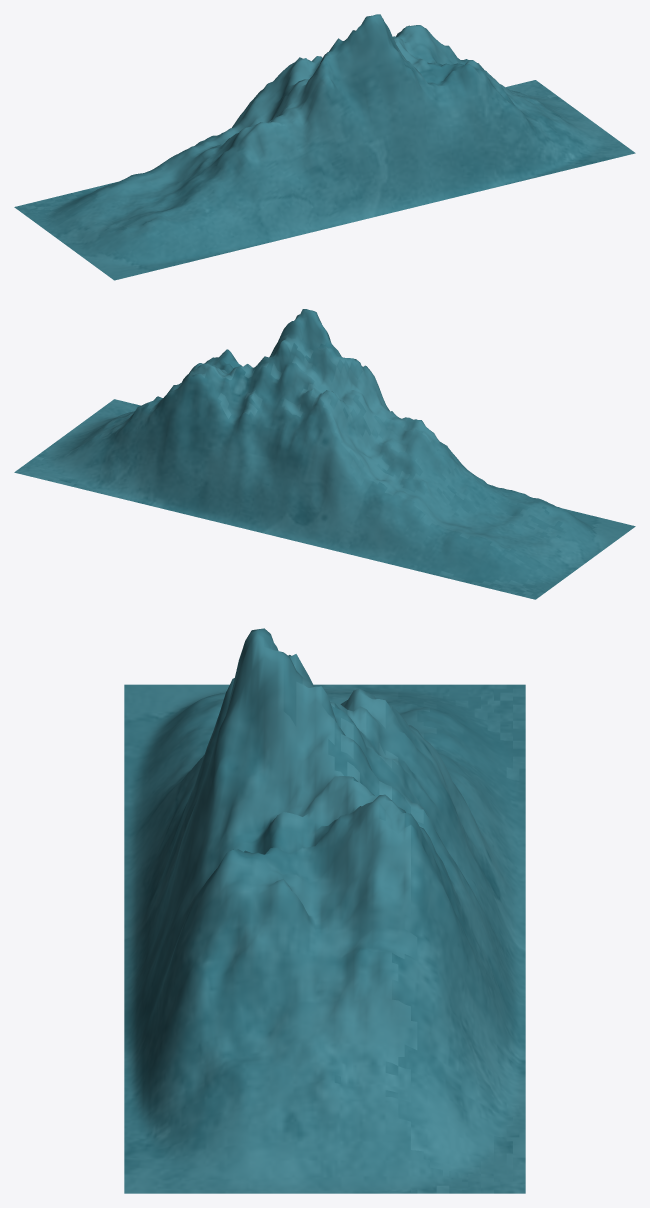
The model's file is pico1a.glb.
3 views of the same model, one above another, from view 1: azimuth 30°, elevation 25°; view 2: azimuth 150°, elevation 25°; view 3: azimuth 270°, elevation 25° (orthographic). The views are drawn at different scales.
Parts seen in each view (by area): view 1: Pico1; view 2: Pico1; view 3: Pico1.
Boxes of the visible parts, <box> form: Pico1: <box>14,14,635,280</box>; Pico1: <box>14,309,635,599</box>; Pico1: <box>124,628,525,1193</box>.
Size of the model in its own units: 30 by 9.32 by 10.
1 material, 1 textured.
